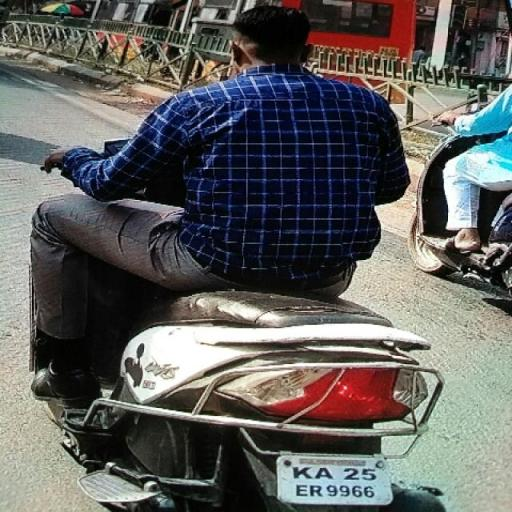bike: (23, 0, 454, 512)
numberplate: (280, 450, 394, 504)
withouthelmet: (234, 6, 310, 66)
